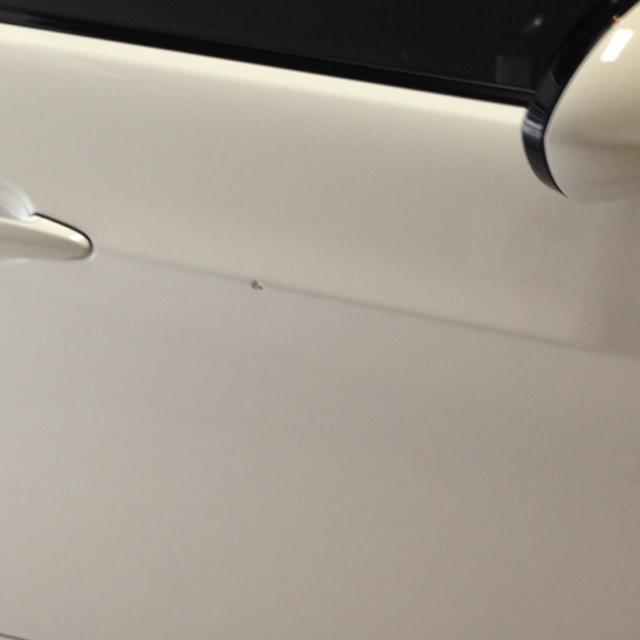dents: (223, 258, 302, 324)
